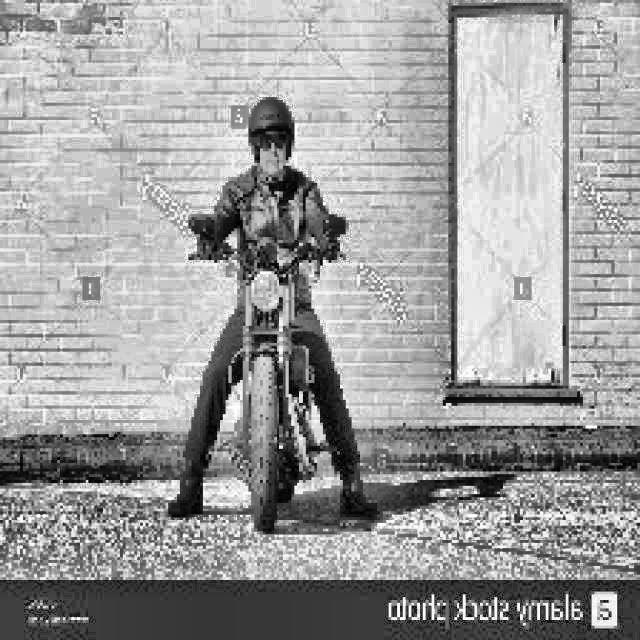motorcycle: (174, 216, 354, 538)
